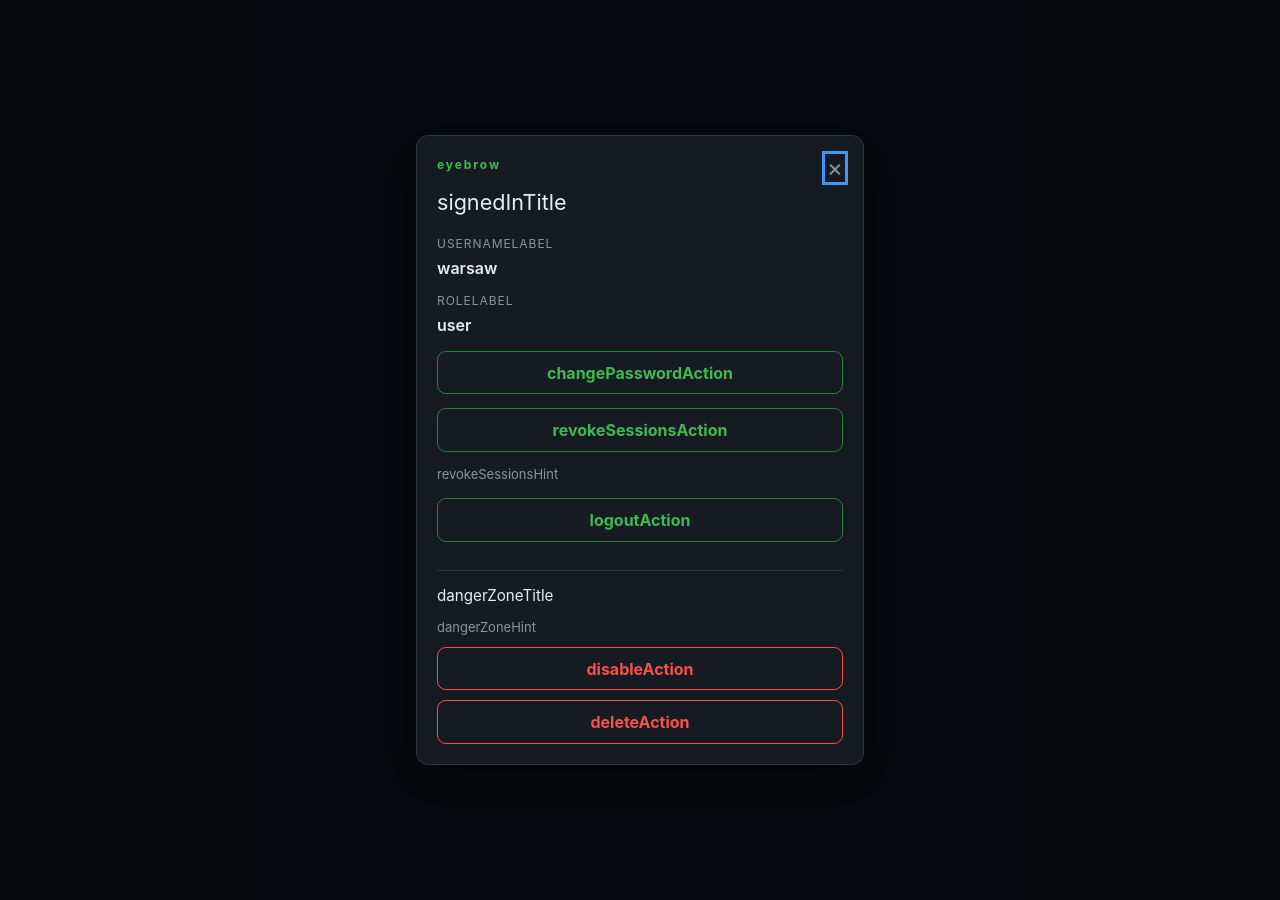
it: account-modal sessions › keeps the signed-in panel open when session revoke fails
This screenshot has width=1280, height=900.
Click the button "revokeSessionsAction".
click(640, 430)  # box [437,408,843,452]
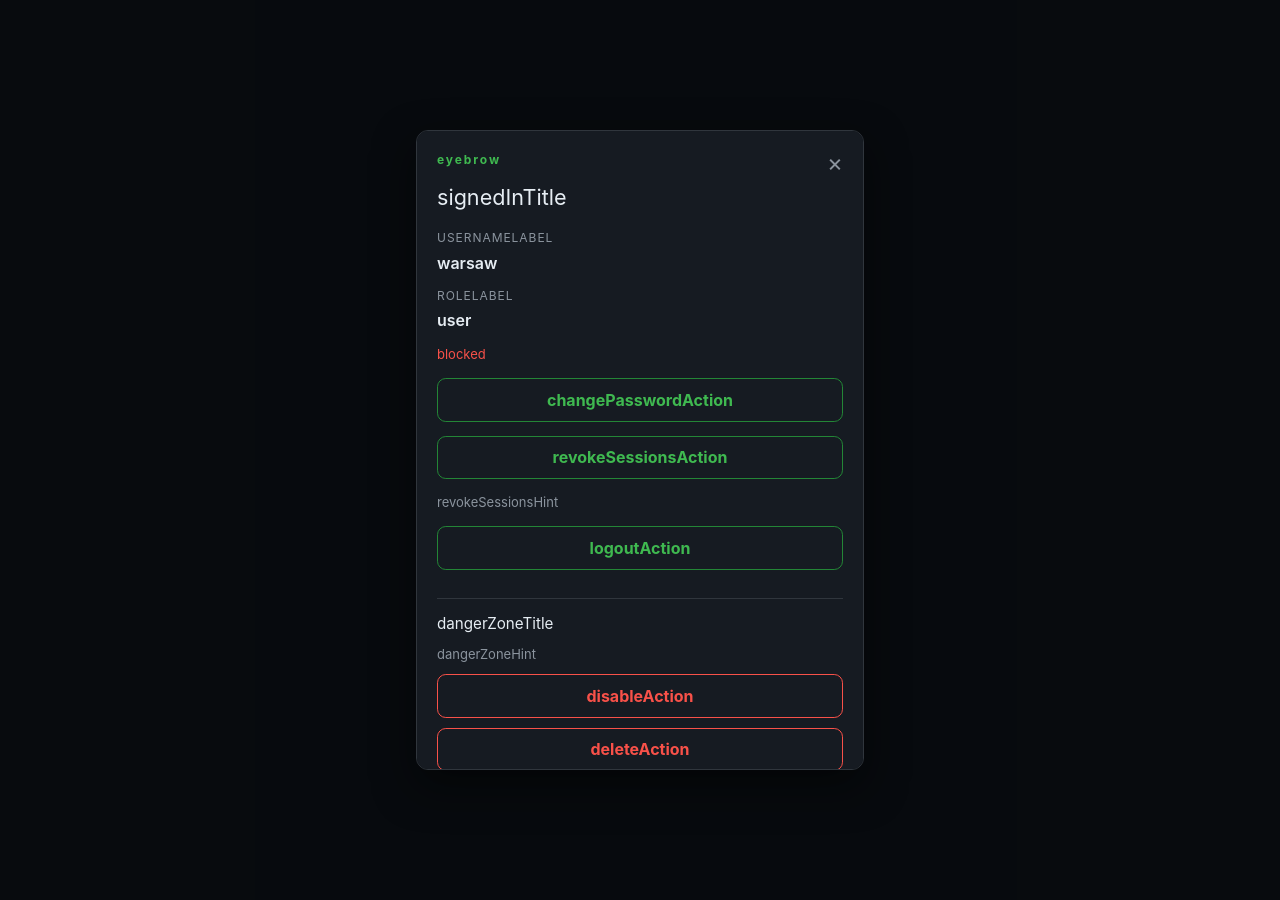
expect the text "blocked" is shown: met, box [437,346,486,362]
Click the button "revokeSessionsAction".
click(640, 457)  # box [437,436,843,479]
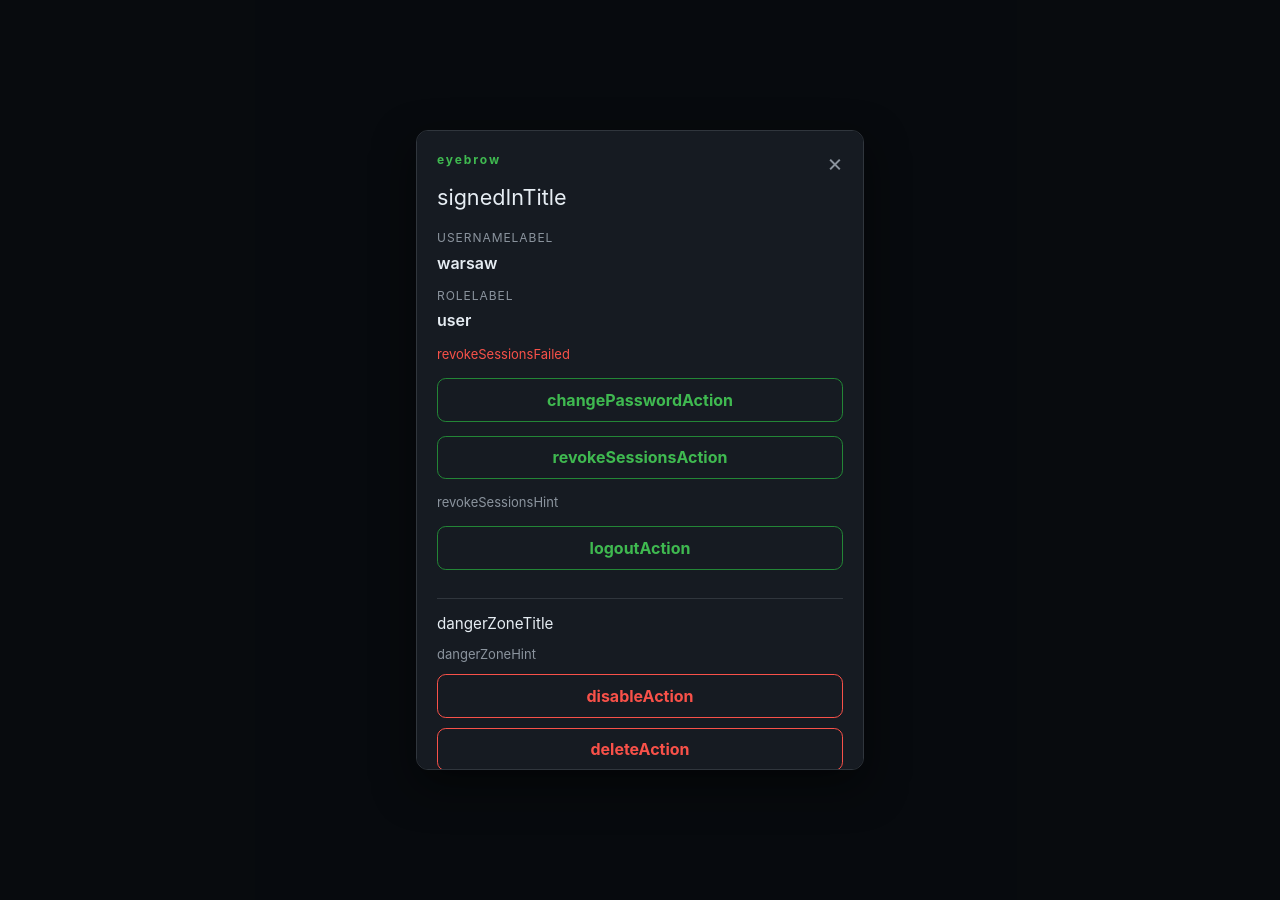
expect the text "revokeSessionsFailed" is shown: met, box [437,346,570,362]
